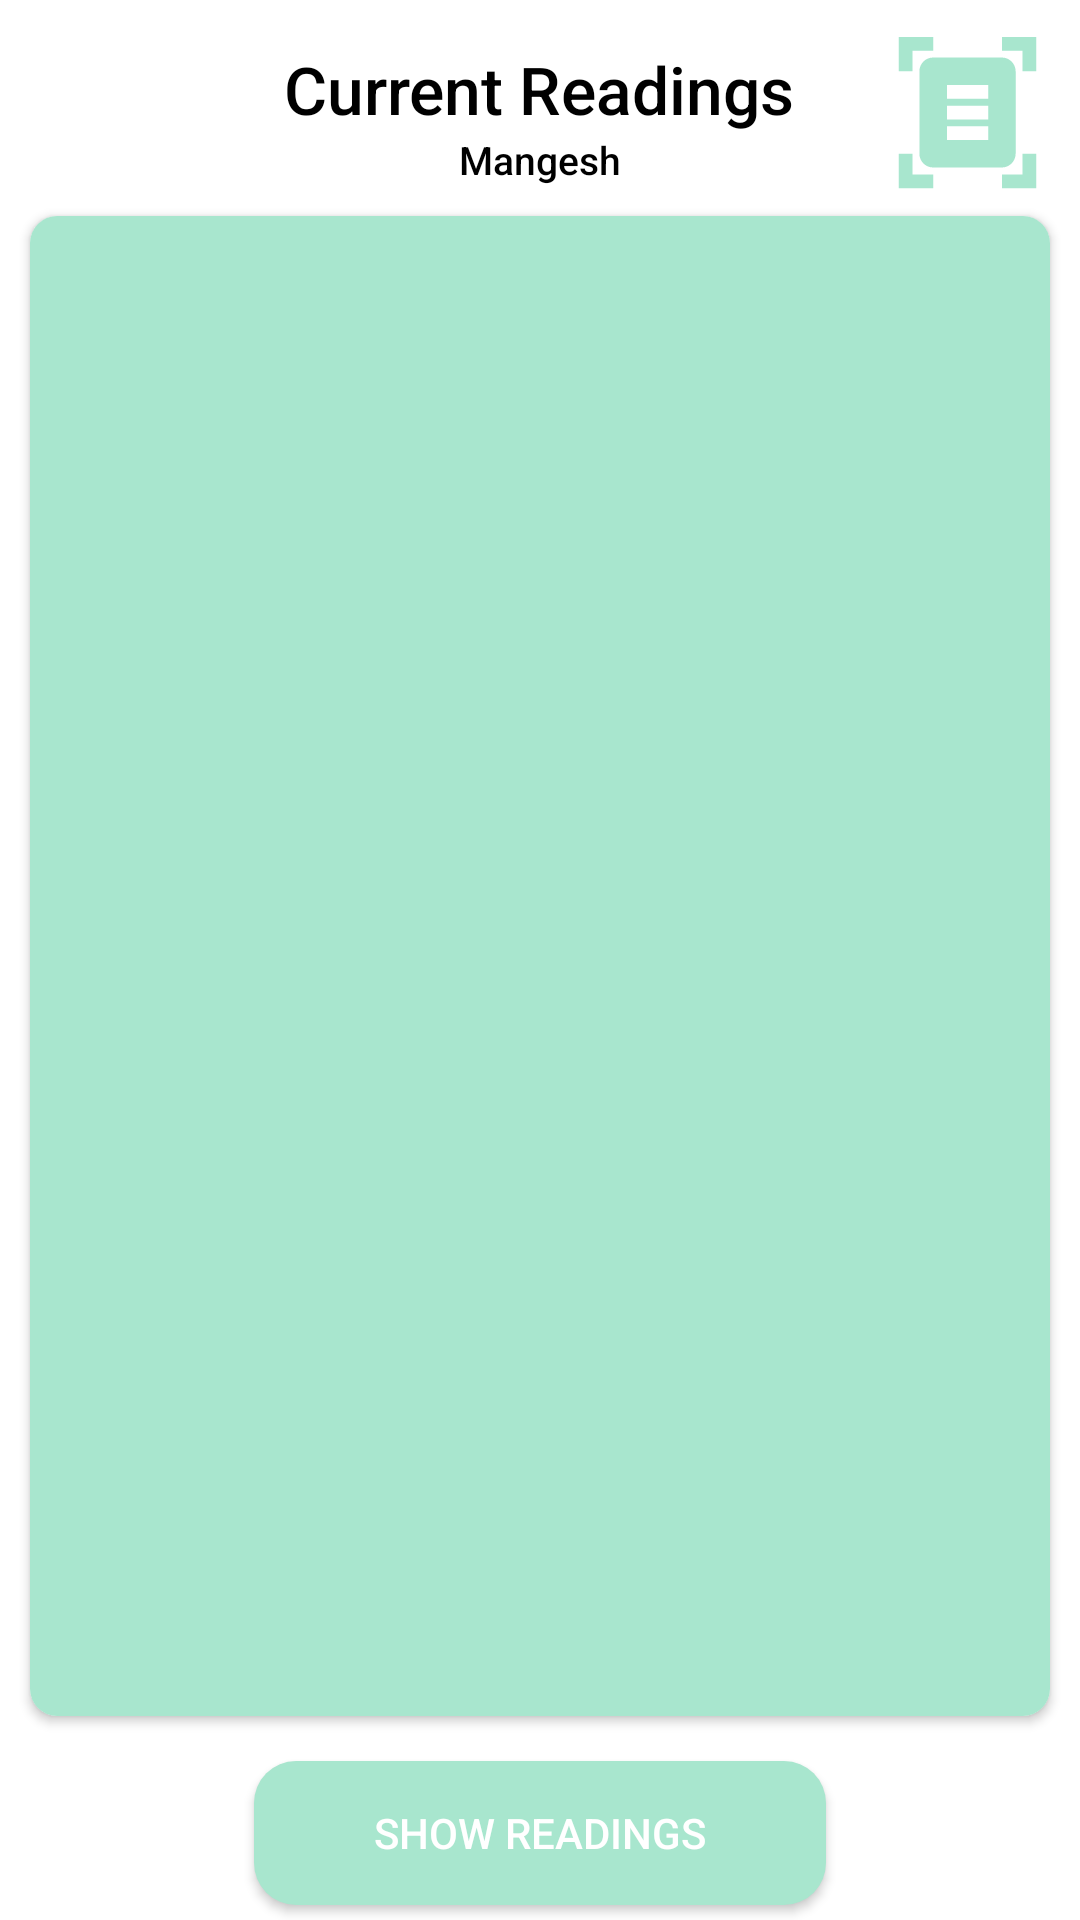

Locate icon controls on the screen. Image size 1080×1920, boxes as region(x1, y1, x2, y2).
document scanner: region(899, 37, 1036, 188)
